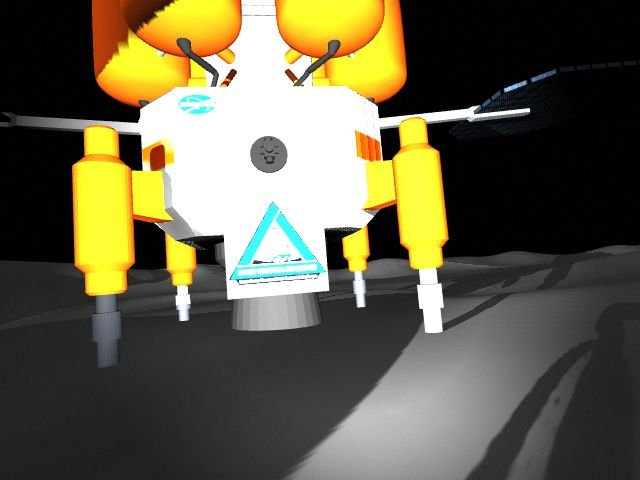basemarker: (227, 200, 327, 284)
